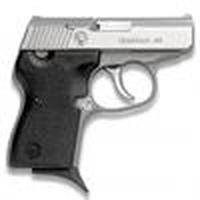gun: (9, 17, 194, 185)
